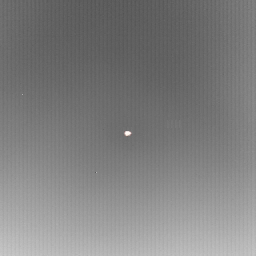Target: (122, 129, 132, 137)
